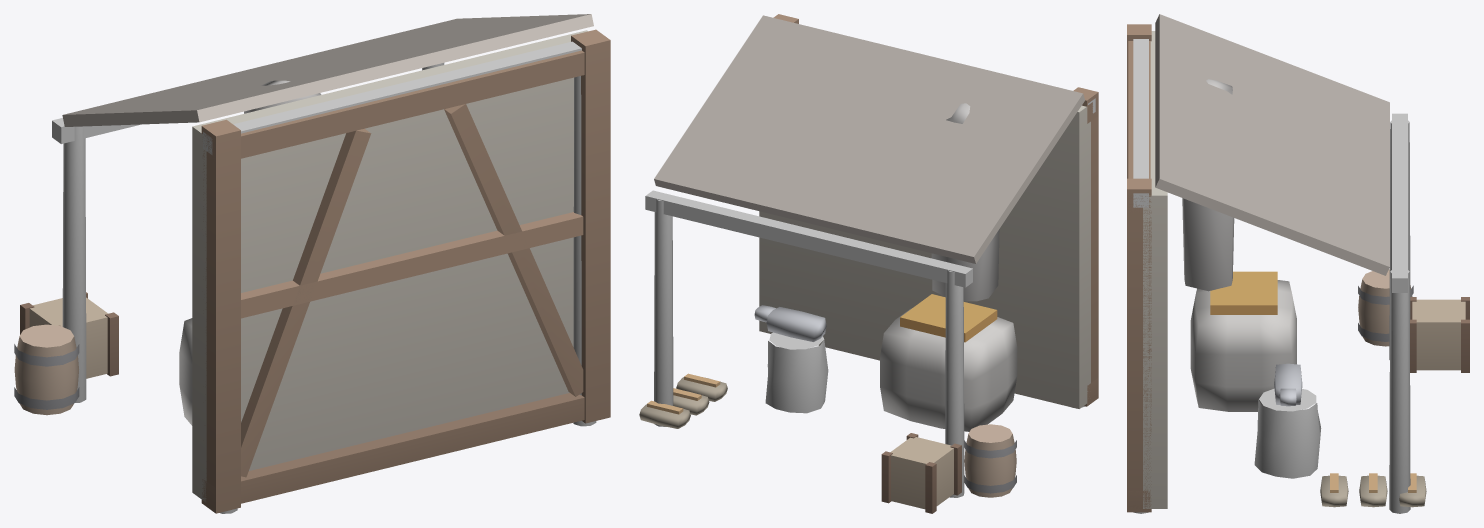
Rendered from hw_bronze_workshop.glb.
3 views of the same model, side by side, from view 1: azimuth 30°, elevation 25°; view 2: azimuth 150°, elevation 25°; view 3: azimuth 270°, elevation 25° (orthographic). The views are drawn at different scales.
Parts seen in each view (by area): view 1: Building; view 2: Building; view 3: Building.
Part boxes in pixels (bbox=[...]): Building: bbox=[14, 14, 610, 513]; Building: bbox=[639, 14, 1098, 513]; Building: bbox=[1127, 14, 1469, 513].
Bounding box in the file's own units: 2.46 × 2.11 × 1.94.
